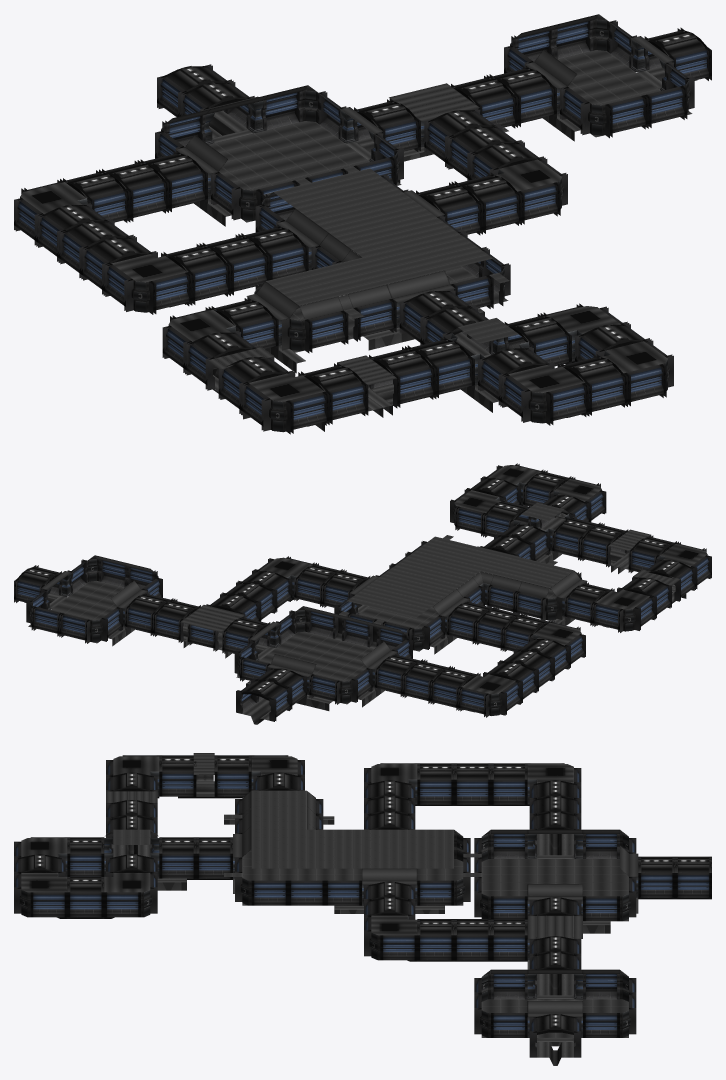
The model's file is Map 2.obj.
3 renders of one model, top to bottom at view 1: azimuth 30°, elevation 25°; view 2: azimuth 150°, elevation 25°; view 3: azimuth 270°, elevation 25°, orthographic. The views are drawn at different scales.
Visible parts, largest first — view 1: corridor_wallBase.040_Cube.105, corridor_wallBase.043_Cube.109, corridor_wallBase.051_Cube.123, corridor_wallBase.108_Cube.194, corridor_wallBase.070_Cube.153, corridor_wallBase.001_Cube.000, corridor_wallBase.093_Cube.178, corridor_wallBase.044_Cube.110, corridor_ceilingC.003_Plane.775, corridor_ceilingC.006_Plane.778, corridor_ceilingC.001_Plane.773, corridor_wallBase.109_Cube.195 (+89 smaller); view 2: corridor_wallBase.077_Cube.160, corridor_wallBase.046_Cube.115, corridor_wallBase.016_Cube.023, corridor_wallBase.073_Cube.156, corridor_wallBase.055_Cube.132, corridor_wallBase.069_Cube.152, corridor_wallBase.011_Cube.015, corridor_wallBase.012_Cube.017, corridor_ceilingC.005_Plane.777, corridor_ceilingC.004_Plane.776, corridor_wallBase.098_Cube.183, corridor_wallBase.074_Cube.157 (+85 smaller); view 3: corridor_wallBase.112_Cube.201, corridor_wallBase.103_Cube.189, corridor_wallBase.081_Cube.164, corridor_wallBase.041_Cube.106, corridor_wallBase.104_Cube.190, corridor_wallBase.003_Cube.080, corridor_wallBase.049_Cube.121, corridor_wallBase.102_Cube.188, corridor_wallBase.087_Cube.170, corridor_wallBase.086_Cube.169, corridor_wallBase.085_Cube.168, corridor_wallBase.064_Cube.143 (+63 smaller).
Boxes of the visible parts, x1,y1,x2,y2 form: corridor_wallBase.040_Cube.105: (305, 310, 348, 353); corridor_wallBase.043_Cube.109: (393, 365, 436, 408); corridor_wallBase.051_Cube.123: (286, 391, 329, 434); corridor_wallBase.108_Cube.194: (546, 383, 589, 425); corridor_wallBase.070_Cube.153: (605, 95, 648, 138); corridor_wallBase.001_Cube.000: (353, 299, 396, 341); corridor_wallBase.093_Cube.178: (149, 272, 192, 314); corridor_wallBase.044_Cube.110: (325, 382, 368, 424); corridor_ceilingC.003_Plane.775: (249, 373, 324, 401); corridor_ceilingC.006_Plane.778: (111, 254, 187, 282); corridor_ceilingC.001_Plane.773: (508, 365, 584, 392); corridor_wallBase.109_Cube.195: (623, 364, 666, 406); corridor_wallBase.077_Cube.160: (458, 687, 489, 716); corridor_wallBase.046_Cube.115: (580, 537, 610, 567); corridor_wallBase.016_Cube.023: (153, 612, 183, 642); corridor_wallBase.073_Cube.156: (309, 674, 340, 704); corridor_wallBase.055_Cube.132: (564, 596, 595, 626); corridor_wallBase.069_Cube.152: (31, 606, 62, 636); corridor_wallBase.011_Cube.015: (342, 619, 372, 647); corridor_wallBase.012_Cube.017: (307, 610, 337, 638); corridor_ceilingC.005_Plane.777: (462, 674, 515, 694); corridor_ceilingC.004_Plane.776: (596, 589, 649, 609); corridor_wallBase.098_Cube.183: (455, 506, 485, 536); corridor_wallBase.074_Cube.157: (375, 667, 405, 696); corridor_wallBase.112_Cube.201: (159, 853, 196, 878); corridor_wallBase.103_Cube.189: (67, 892, 104, 917); corridor_wallBase.081_Cube.164: (380, 935, 417, 960); corridor_wallBase.041_Cube.106: (288, 880, 325, 905); corridor_wallBase.104_Cube.190: (30, 892, 67, 917); corridor_wallBase.003_Cube.080: (251, 880, 288, 905); corridor_wallBase.049_Cube.121: (159, 771, 196, 796); corridor_wallBase.102_Cube.188: (104, 892, 140, 917); corridor_wallBase.087_Cube.170: (417, 779, 453, 804); corridor_wallBase.086_Cube.169: (454, 779, 490, 804); corridor_wallBase.085_Cube.168: (491, 779, 527, 804); corridor_wallBase.064_Cube.143: (583, 974, 619, 999).
Bounding box in the file's own units: 71.8 × 5 × 75.8.
